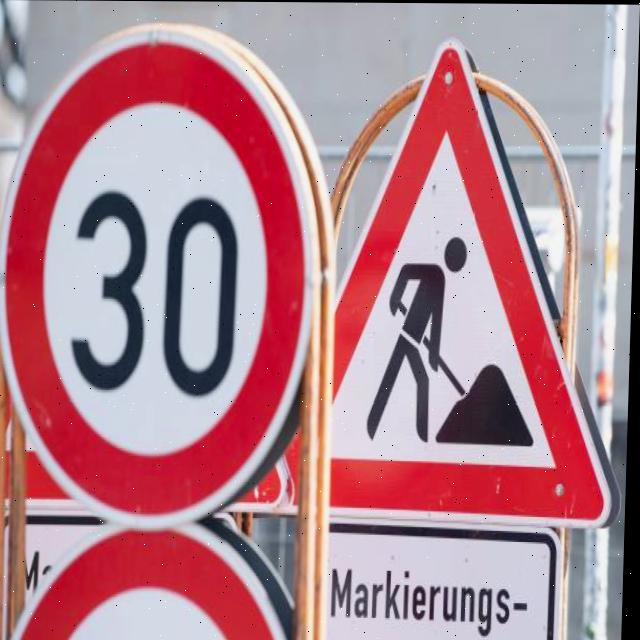Speed limit 30: (1, 20, 332, 527)
